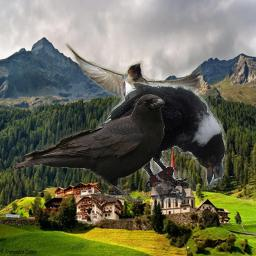Crow: (12, 94, 165, 204), (96, 82, 227, 203)
Swallow: (63, 41, 204, 126)
